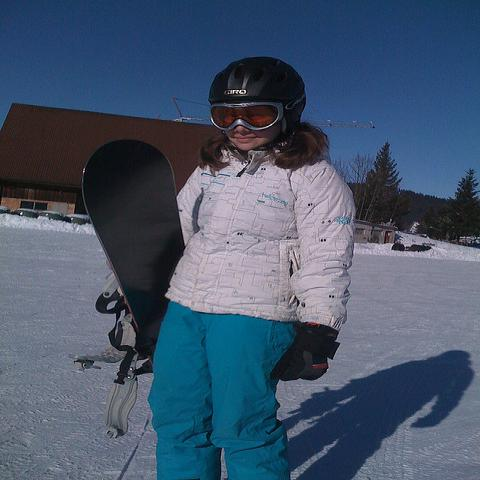car: (9, 206, 37, 218), (37, 210, 64, 221), (0, 205, 12, 214)
